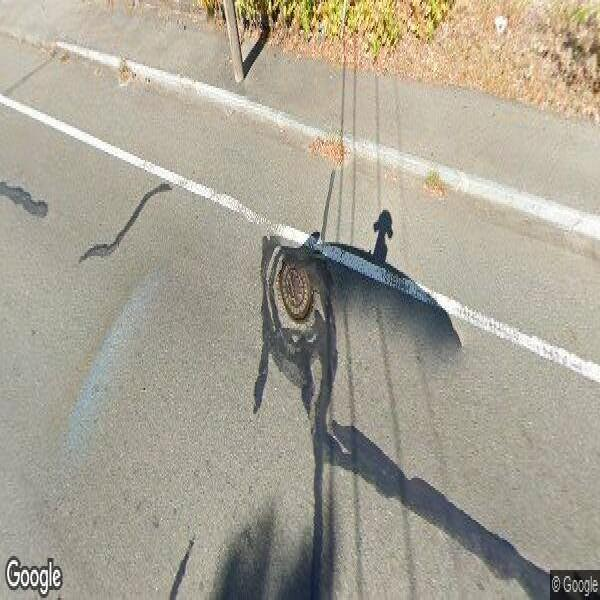manhole: (268, 239, 318, 325)
